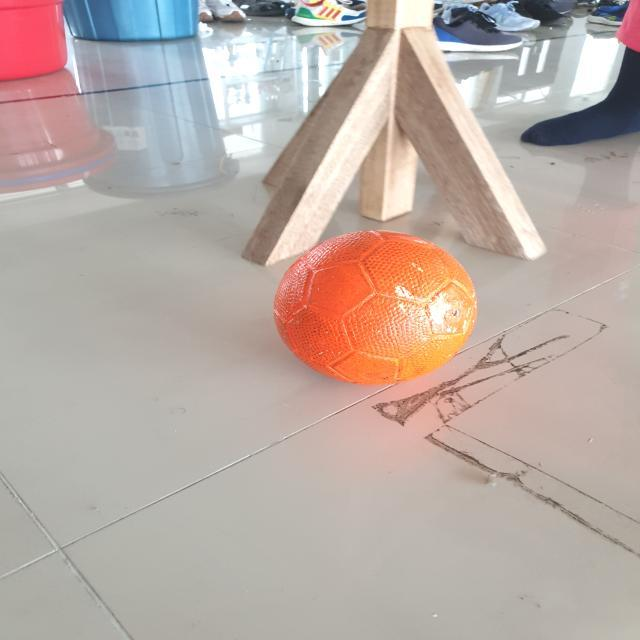bola: (262, 220, 484, 396)
